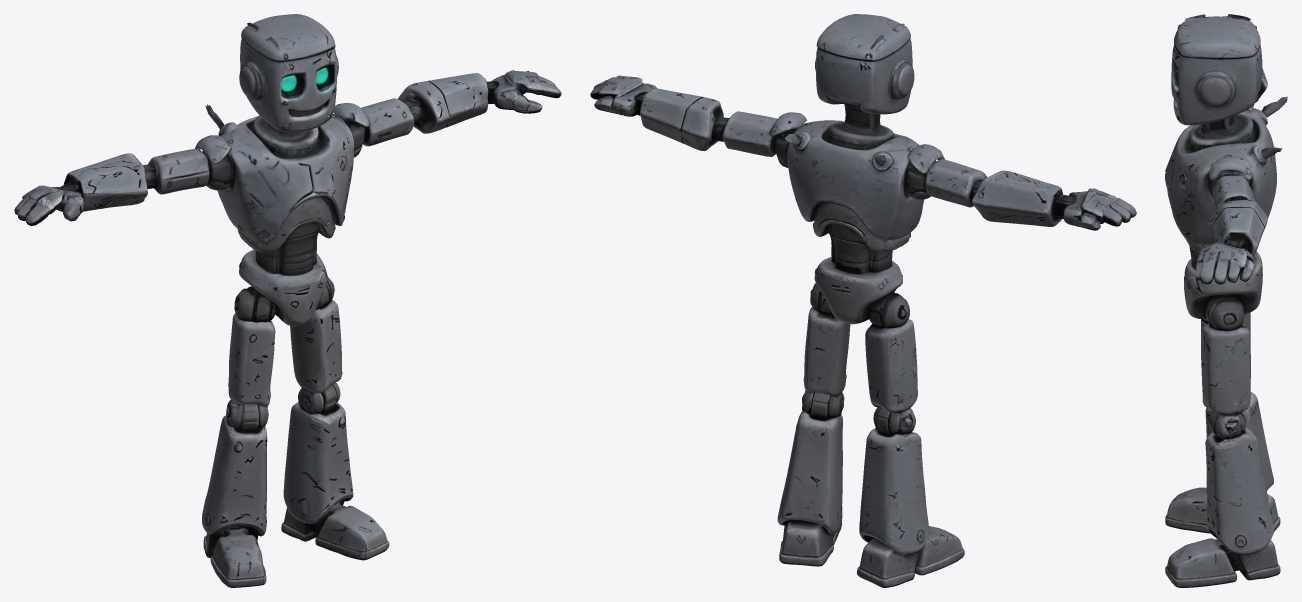
File: clanker_townsperson.glb
3 views of the same model, side by side, from view 1: azimuth 30°, elevation 25°; view 2: azimuth 150°, elevation 25°; view 3: azimuth 270°, elevation 25° (orthographic).
Visible parts, largest first — view 1: tripo_node_dbc3ec7a-d812-4d3d-9d06-b457c4c972c1; view 2: tripo_node_dbc3ec7a-d812-4d3d-9d06-b457c4c972c1; view 3: tripo_node_dbc3ec7a-d812-4d3d-9d06-b457c4c972c1.
Part boxes in pixels (x1,y1,x2,y2): tripo_node_dbc3ec7a-d812-4d3d-9d06-b457c4c972c1: (14,14,561,587); tripo_node_dbc3ec7a-d812-4d3d-9d06-b457c4c972c1: (590,14,1136,587); tripo_node_dbc3ec7a-d812-4d3d-9d06-b457c4c972c1: (1165,14,1287,587).
Size of the model in its own units: 0.9808 by 0.9262 by 0.1965.
1 material, 1 textured.
